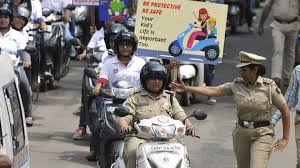helmet: (141, 58, 171, 96), (113, 30, 143, 64)
